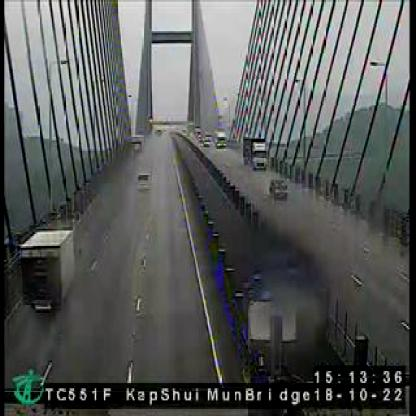Car: (270, 177, 288, 200), (136, 170, 150, 191)
Truck: (19, 230, 76, 316), (241, 137, 268, 171)
